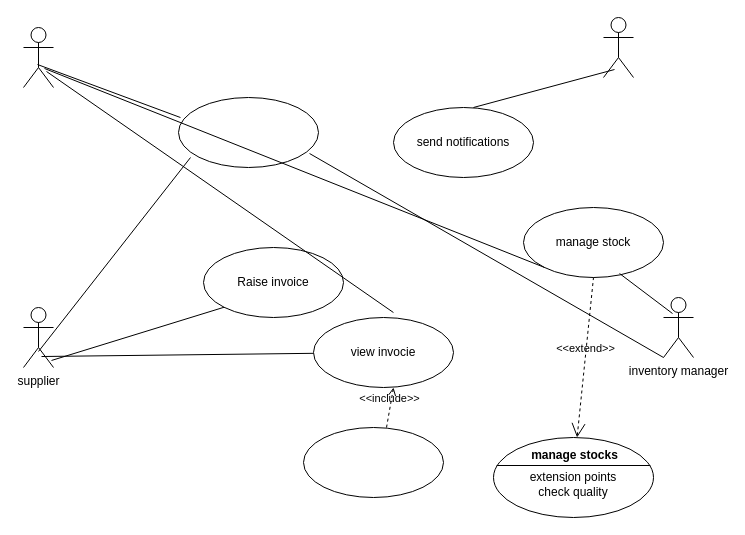
The diagram is 745 pixels wide and 535 high, and some of its shapes have lost their labels. The centre of each missing label's shape, as x and y in pixels:
"admin" belongs at point (38, 57).
"notification center" belongs at point (618, 47).
"pay supplier" belongs at point (373, 462).
"signin/signout" belongs at point (248, 132).
